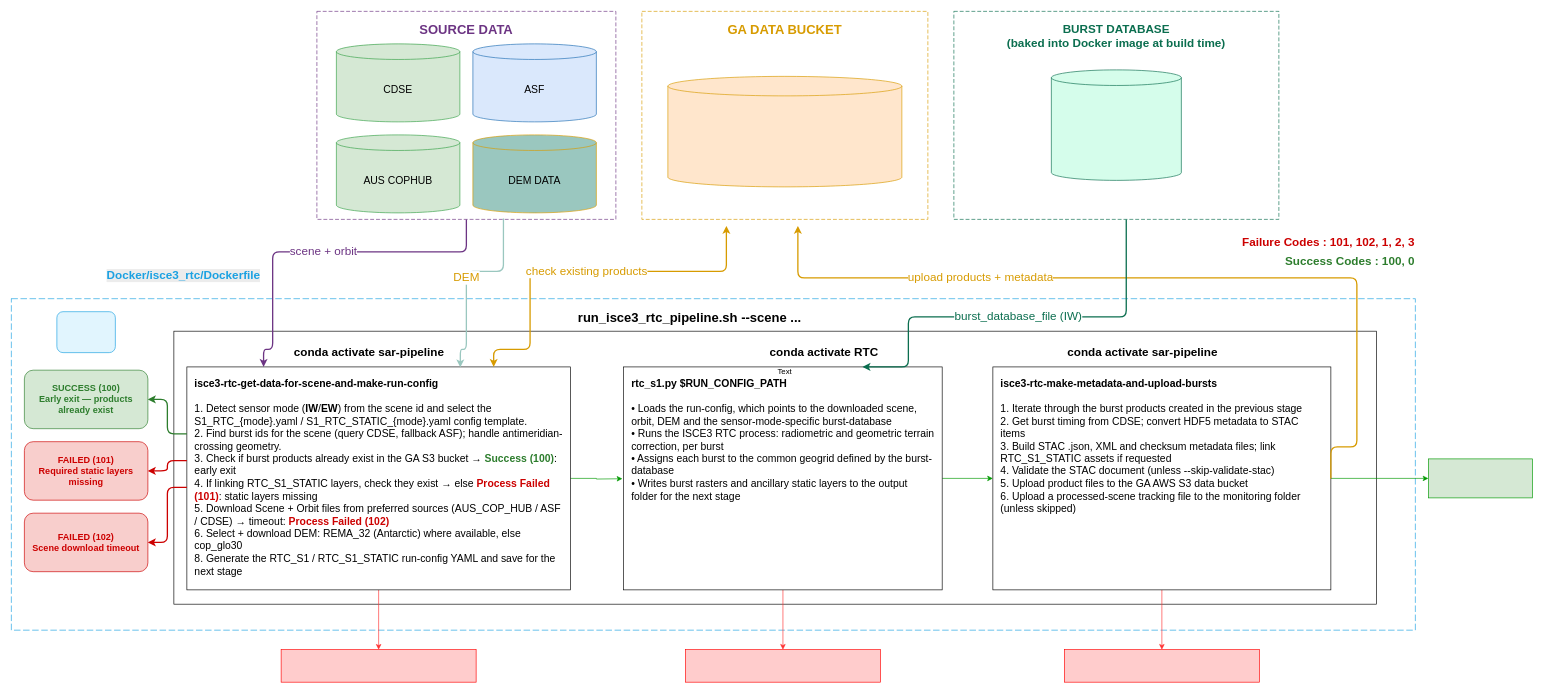
Image size: 1544x694. Some labels were removed from this diagram. The centre of each missing label's shape, as x and y in pixels:
AWS S3: (x=784, y=131)
FAILED (1): (x=378, y=665)
FAILED (2): (x=782, y=665)
FAILED (3): (x=1161, y=665)
opera-iw-burst- bbox-only.sqlite3: (x=1116, y=124)
SUCCESS (0): (x=1480, y=478)
🐳 docker: (x=85, y=332)
